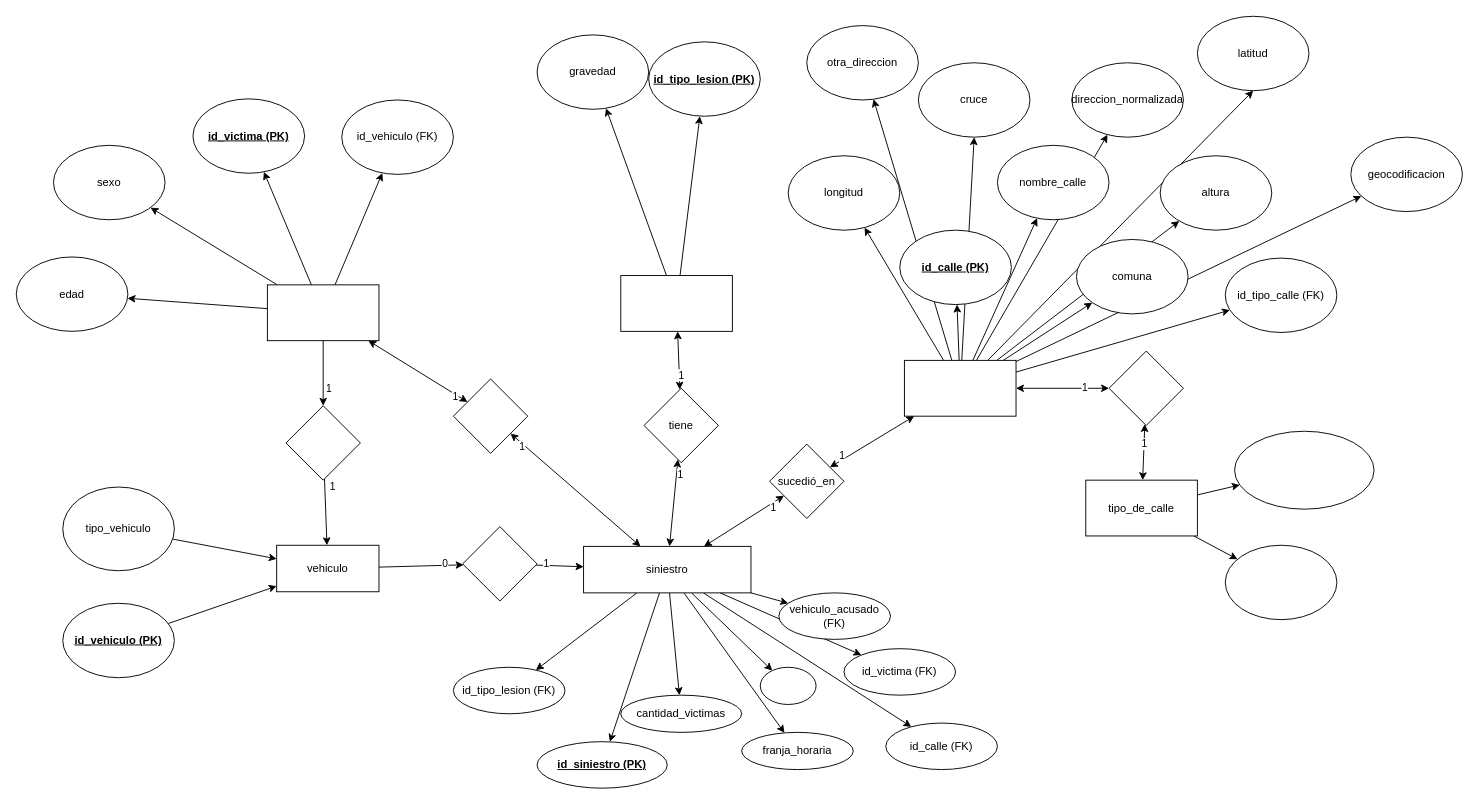
Some shapes in this 1479 by 804 pixel diagram are drawn without their labels. The box of each missing label's shape, as (x1, y1, x2, y2) in pixels:
conducía_un: (285, 405, 360, 480)
descripción: (1224, 544, 1337, 620)
dirección: (903, 359, 1016, 416)
fecha: (759, 666, 816, 704)
fue_acusado: (462, 526, 537, 601)
id_tipo_de_calle (PK): (1234, 430, 1374, 509)
participa: (452, 378, 528, 453)
pertenece_a: (1108, 350, 1183, 425)
tipo_lesion: (620, 275, 732, 331)
victima: (266, 284, 379, 341)
